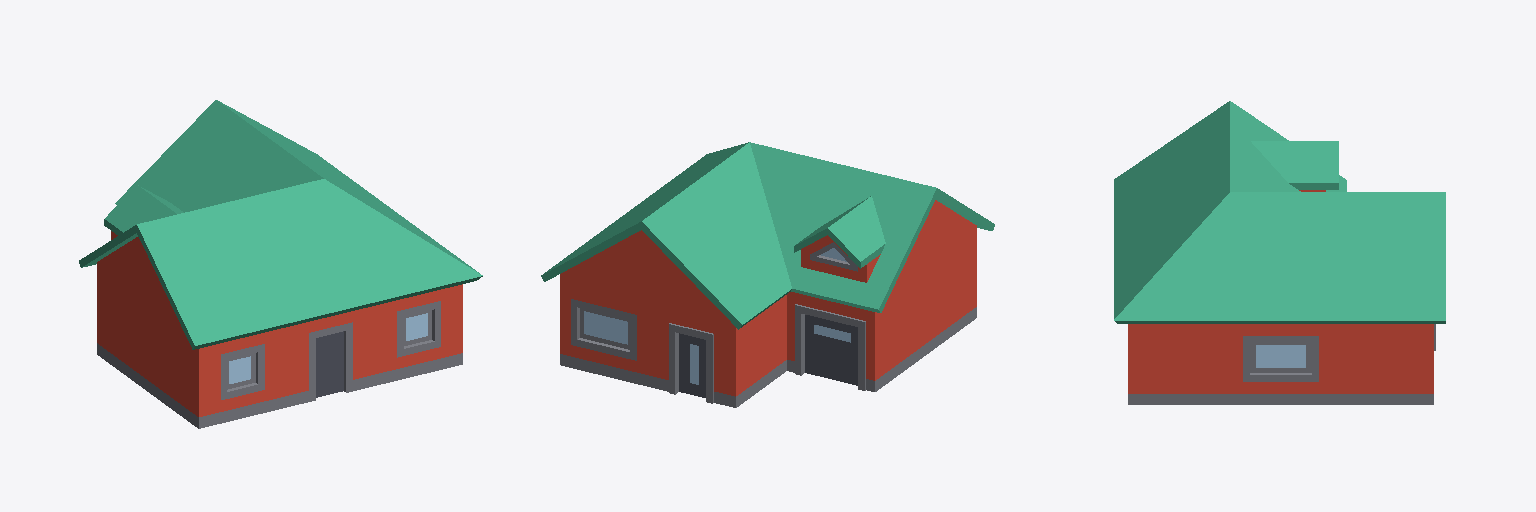
The model's file is house_type05.obj.
The picture shows the model from 3 angles: view 1: azimuth 30°, elevation 25°; view 2: azimuth 150°, elevation 25°; view 3: azimuth 270°, elevation 25°; orthographic projection.
Visible parts, largest first — view 1: house_type05; view 2: house_type05; view 3: house_type05.
Boxes of the visible parts, x1=… form: house_type05: x1=79, y1=100, x2=482, y2=428; house_type05: x1=541, y1=142, x2=994, y2=407; house_type05: x1=1114, y1=101, x2=1445, y2=404.
Size of the model in its own units: 1.31 by 0.7375 by 1.31.